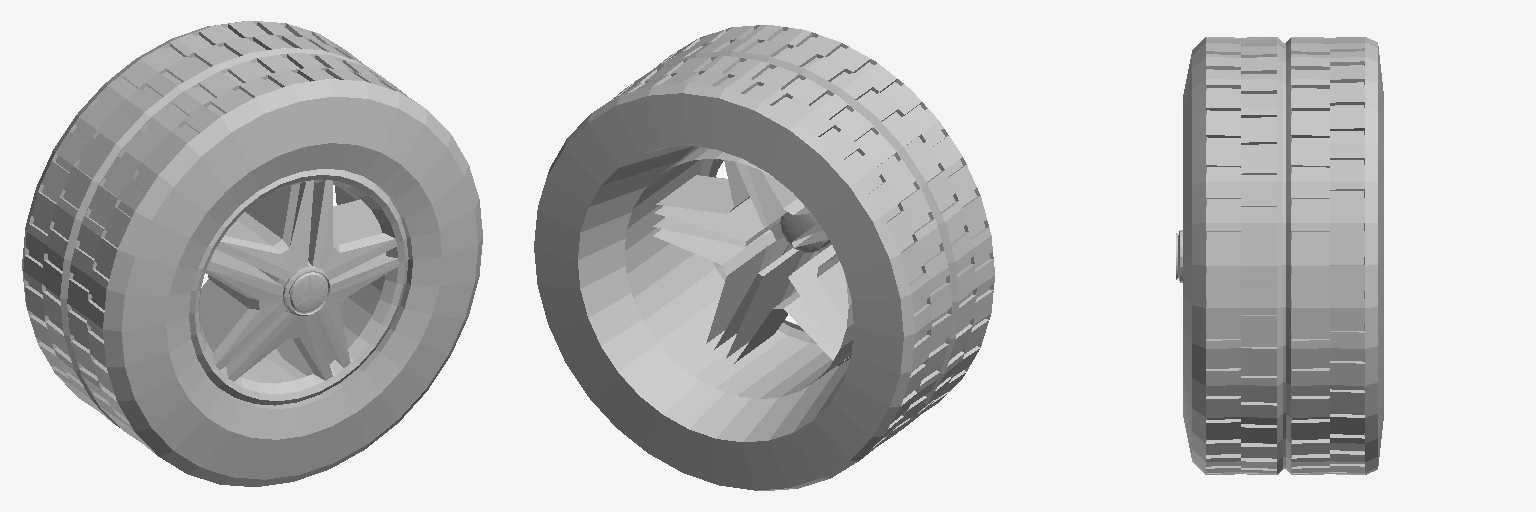
3 views of the same model, side by side, from view 1: azimuth 30°, elevation 25°; view 2: azimuth 150°, elevation 25°; view 3: azimuth 270°, elevation 25° (orthographic).
Parts seen in each view (by area): view 1: Коло.008_Коло.013, Коло.007_Коло.012, Sphere.004, Циліндр.004_Циліндр.007; view 2: Коло.008_Коло.013, Коло.007_Коло.012, Sphere.004; view 3: Коло.008_Коло.013.
Boxes of the visible parts, x1,y1,x2,y2 form: Коло.008_Коло.013: [22, 21, 482, 486]; Коло.007_Коло.012: [189, 169, 408, 405]; Sphere.004: [283, 265, 328, 315]; Циліндр.004_Циліндр.007: [289, 271, 329, 314]; Коло.008_Коло.013: [534, 25, 994, 490]; Коло.007_Коло.012: [653, 159, 848, 363]; Sphere.004: [780, 212, 830, 252]; Коло.008_Коло.013: [1183, 37, 1383, 474].
Bounding box in the file's own units: 2.97 × 2.97 × 1.41.